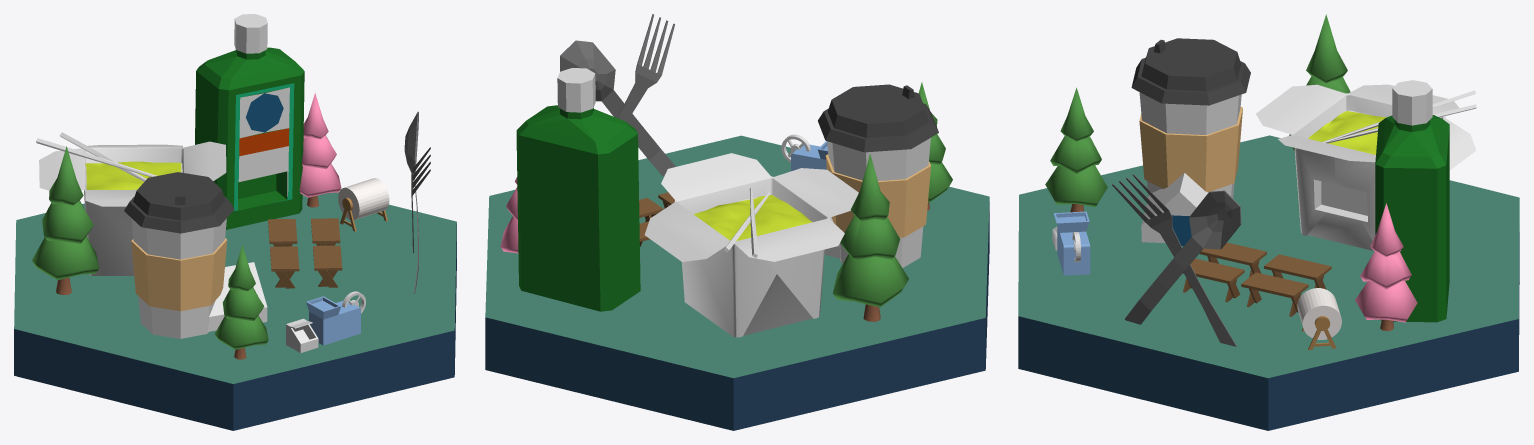
The model's file is Macro - Restaurant lvl 3 WM3.fbx.
The picture shows the model from 3 angles, left to right: view 1: azimuth 30°, elevation 25°; view 2: azimuth 150°, elevation 25°; view 3: azimuth 270°, elevation 25°; orthographic projection. The views are drawn at different scales.
Visible parts, largest first — view 1: Cylinder.176, drink_001.001, coffee_001.002, Cube.108, Tree_Spruce_tiny_01.001, Tree_Spruce_tiny_01.002, Tree_Spruce_tiny_01.003, Cube.001, Cylinder.011, Cube.003, table.003, table.002 (+5 smaller); view 2: Cylinder.176, Cube.108, drink_001.001, coffee_001.002, Tree_Spruce_tiny_01.001, Plane.116, Plane.117, Tree_Spruce_tiny_01.002, Cube.001, Tree_Spruce_tiny_01.003; view 3: Cylinder.176, Cube.108, coffee_001.002, drink_001.001, Tree_Spruce_tiny_01.003, Tree_Spruce_tiny_01.002, Plane.116, Plane.117, Cube.001, Cube.003, Tree_Spruce_tiny_01.001, Cylinder.011 (+4 smaller).
Part boxes in pixels (box(x1,y1,x2,y2)): Cylinder.176: box(14, 192, 456, 430); drink_001.001: box(195, 14, 304, 229); coffee_001.002: box(124, 172, 234, 338); Cube.108: box(36, 132, 226, 275); Tree_Spruce_tiny_01.001: box(32, 146, 99, 294); Tree_Spruce_tiny_01.002: box(215, 245, 268, 359); Tree_Spruce_tiny_01.003: box(299, 92, 341, 207); Cube.001: box(306, 296, 360, 345); Cylinder.011: box(338, 178, 389, 220); Cube.003: box(207, 262, 267, 331); table.003: box(270, 246, 299, 288); table.002: box(313, 245, 342, 287); Cylinder.176: box(485, 135, 989, 430); Cube.108: box(644, 153, 858, 337); drink_001.001: box(516, 68, 640, 311); coffee_001.002: box(818, 84, 938, 267); Tree_Spruce_tiny_01.001: box(832, 153, 908, 321); Plane.116: box(560, 40, 675, 176); Plane.117: box(617, 14, 674, 122); Tree_Spruce_tiny_01.002: box(919, 82, 952, 210); Cube.001: box(791, 141, 827, 171); Tree_Spruce_tiny_01.003: box(500, 177, 518, 253); Cylinder.176: box(1018, 135, 1519, 430); Cube.108: box(1256, 84, 1476, 250); coffee_001.002: box(1131, 38, 1250, 197); drink_001.001: box(1375, 80, 1449, 322); Tree_Spruce_tiny_01.003: box(1355, 203, 1417, 331); Tree_Spruce_tiny_01.002: box(1045, 87, 1107, 212); Plane.116: box(1125, 190, 1241, 324); Plane.117: box(1112, 174, 1236, 346); Cube.001: box(1054, 211, 1090, 275); Cube.003: box(1141, 173, 1208, 243); Tree_Spruce_tiny_01.001: box(1289, 14, 1350, 151); Cylinder.011: box(1297, 288, 1341, 339).
Size of the model in its own units: 197 by 101 by 172.
